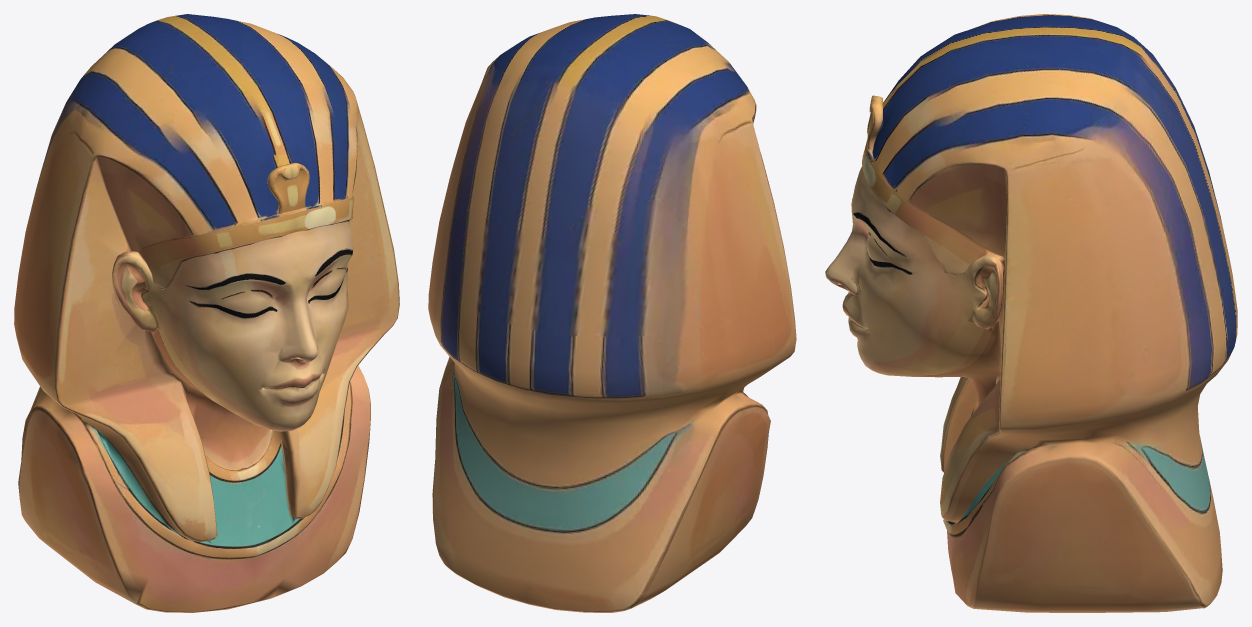
Rendered from mask.glb.
3 renders of one model, left to right at view 1: azimuth 30°, elevation 25°; view 2: azimuth 150°, elevation 25°; view 3: azimuth 270°, elevation 25°, orthographic. The views are drawn at different scales.
Size of the model in its own units: 0.6727 by 1 by 0.6881.
Materials: 1 (1 with a texture image).
